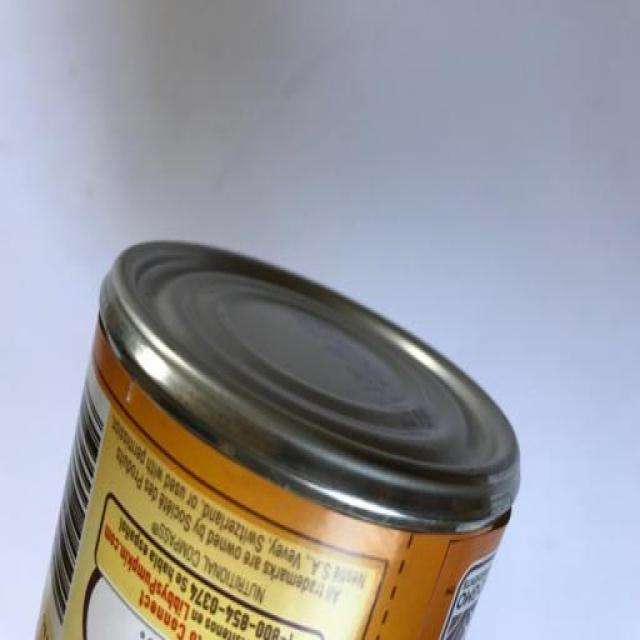metel: (9, 244, 538, 640)
